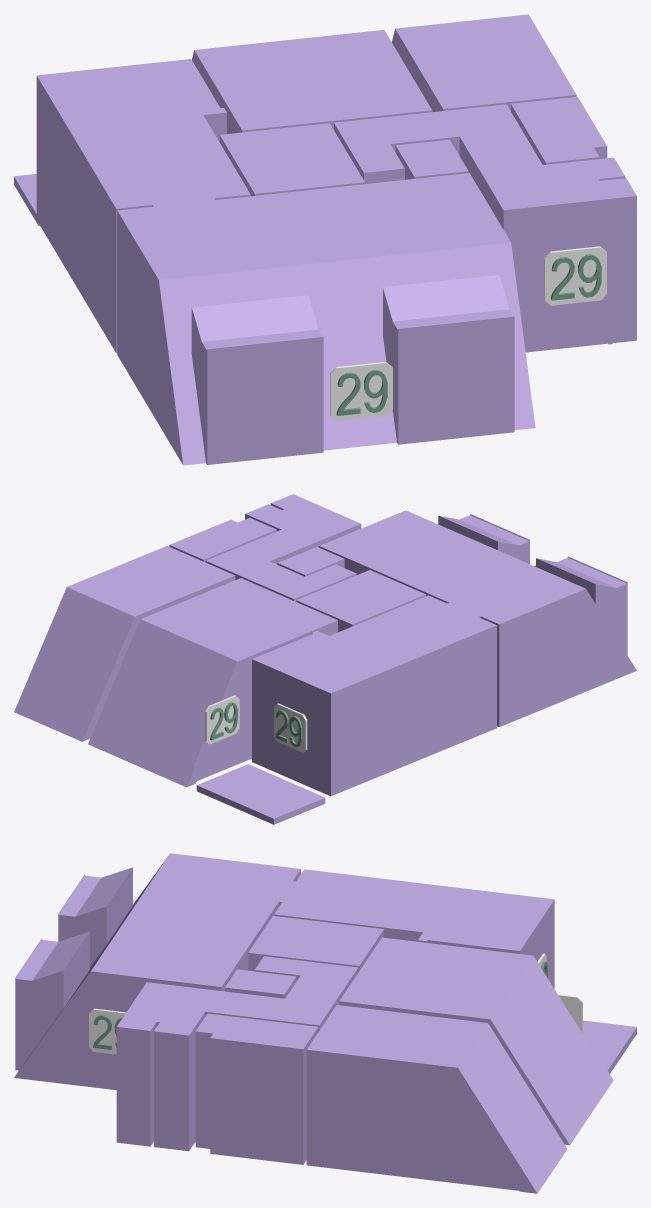
3 renders of one model, top to bottom at view 1: azimuth 30°, elevation 25°; view 2: azimuth 150°, elevation 25°; view 3: azimuth 270°, elevation 25°, orthographic. The views are drawn at different scales.
Visible parts, largest first — view 1: g_6, g_5, g_4, g_1, g_2, g_3, g_0, g_20, g_17, g_7, g_8; view 2: g_5, g_6, g_1, g_2, g_4, g_8, g_3, g_0, g_7, g_23, g_14; view 3: g_2, g_6, g_1, g_4, g_0, g_5, g_3, g_8, g_7, g_11.
Part boxes in pixels (box(x1,y1,x2,y2)): g_6: box(117, 173, 535, 465); g_5: box(36, 59, 250, 353); g_4: box(334, 104, 636, 352); g_1: box(192, 30, 432, 133); g_2: box(392, 14, 576, 111); g_3: box(219, 123, 364, 196); g_0: box(511, 96, 607, 164); g_20: box(544, 246, 606, 305); g_17: box(330, 361, 392, 420); g_7: box(395, 139, 468, 179); g_8: box(14, 174, 39, 225); g_5: box(252, 595, 496, 796); g_6: box(319, 510, 636, 727); g_1: box(88, 578, 337, 787); g_2: box(14, 546, 235, 741); g_4: box(205, 494, 361, 601); g_8: box(196, 764, 325, 824); g_3: box(296, 570, 426, 632); g_0: box(169, 517, 276, 562); g_7: box(277, 547, 344, 576); g_23: box(205, 695, 239, 744); g_14: box(274, 703, 307, 752); g_2: box(306, 1005, 567, 1193); g_6: box(14, 853, 300, 1090); g_1: box(339, 937, 613, 1145); g_4: box(116, 956, 358, 1151); g_0: box(195, 1013, 318, 1164); g_5: box(274, 869, 554, 988); g_3: box(248, 916, 383, 972); g_8: box(583, 1020, 636, 1073); g_7: box(225, 969, 296, 998); g_11: box(89, 1008, 126, 1054).
Size of the model in its own units: 11.01 by 2.71 by 12.42.
